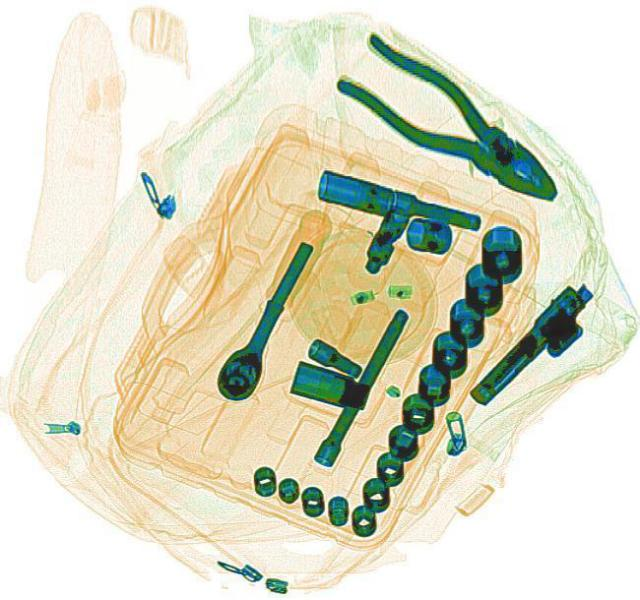Gun: (457, 274, 611, 416)
Pliers: (324, 24, 580, 225)
